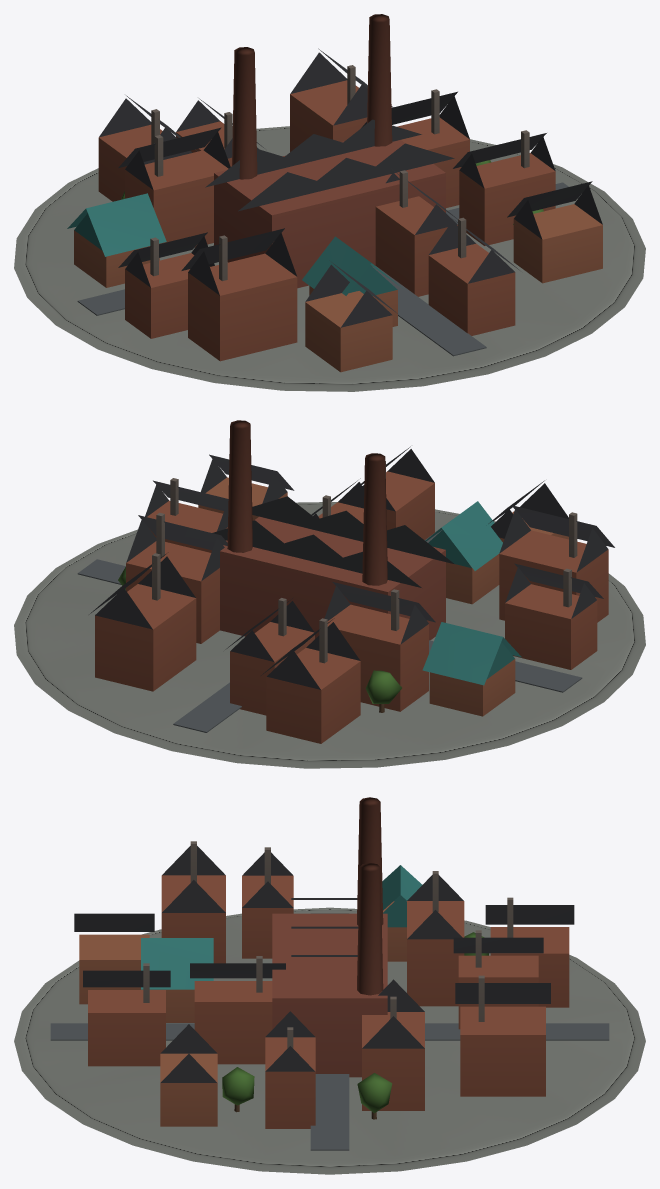
Rendered from settlement_0_5.glb.
The picture shows the model from 3 angles, top to bottom: view 1: azimuth 30°, elevation 25°; view 2: azimuth 150°, elevation 25°; view 3: azimuth 270°, elevation 25°; orthographic projection.
Visible parts, largest first — view 1: part_0; view 2: part_0; view 3: part_0.
Part boxes in pixels (bbox=[...]): part_0: bbox=[14, 14, 645, 391]; part_0: bbox=[14, 420, 645, 768]; part_0: bbox=[14, 797, 645, 1174].
Size of the model in its own units: 32.8 by 11.89 by 32.8.
